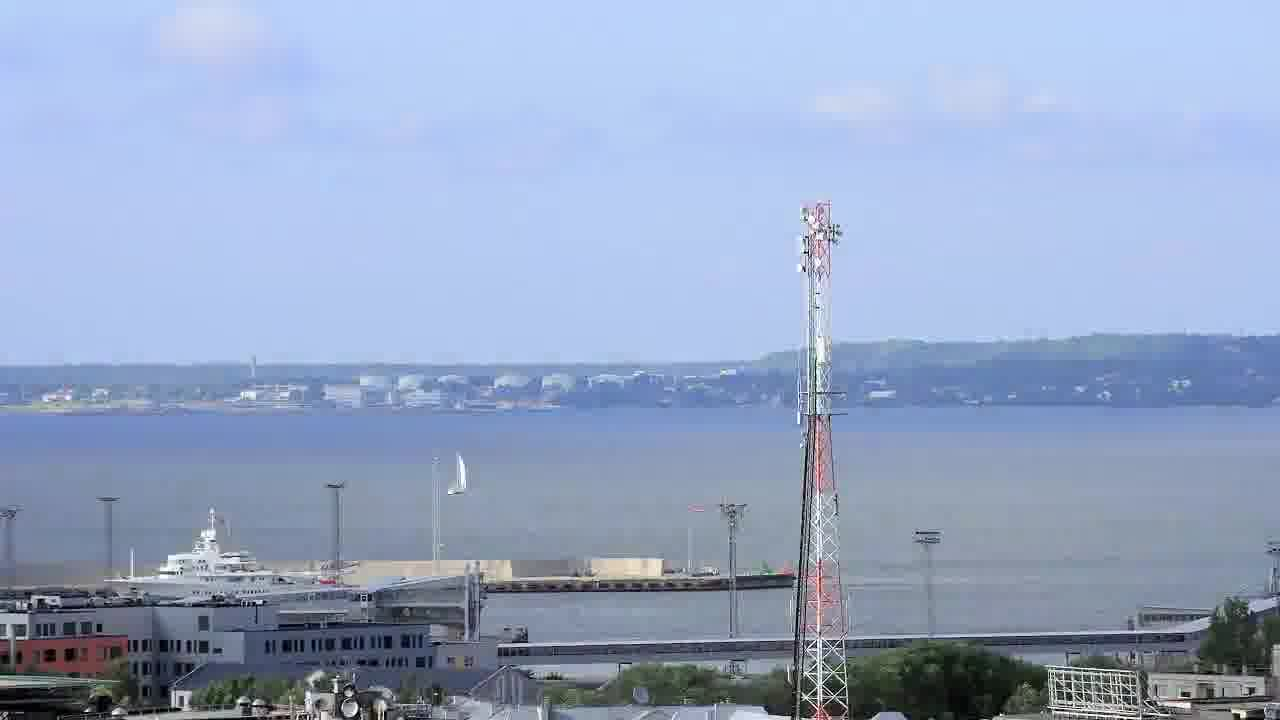type-2: (427, 444, 492, 513)
type-3: (84, 515, 355, 603)
